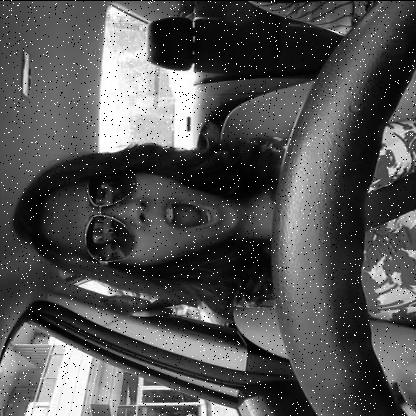seatbelt: (1, 145, 416, 324)
